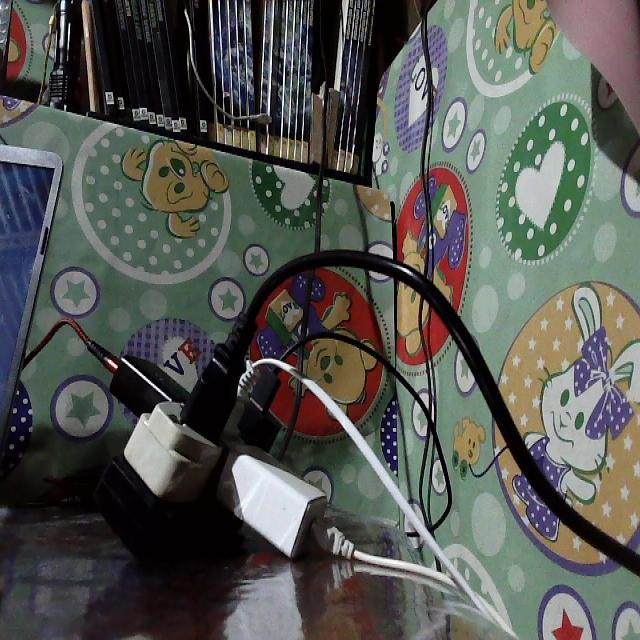-: (94, 313, 358, 560)
